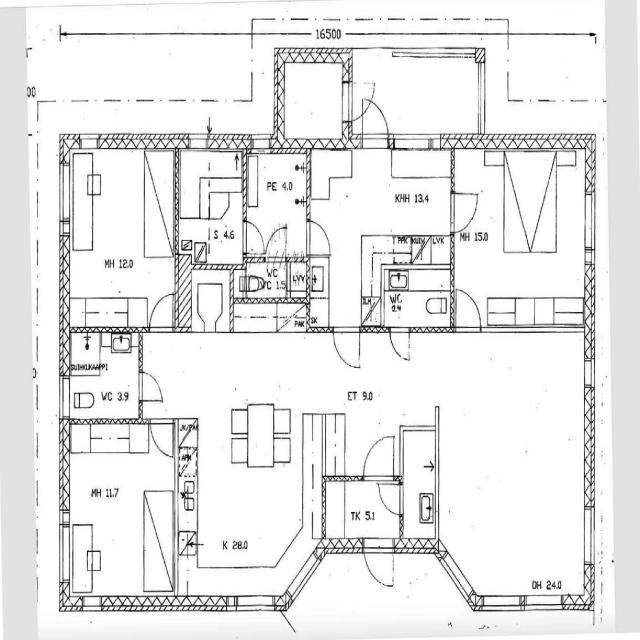door: (361, 538, 396, 594), (361, 432, 396, 486), (360, 97, 390, 148), (449, 188, 481, 235), (454, 284, 484, 334), (332, 324, 362, 371), (148, 418, 176, 460), (148, 291, 175, 334), (376, 478, 404, 518), (306, 216, 332, 258), (137, 368, 165, 407), (351, 81, 376, 121), (388, 326, 413, 365), (264, 223, 288, 260), (242, 218, 265, 256)
window: (447, 548, 475, 604), (55, 156, 75, 230), (581, 186, 600, 259), (56, 517, 74, 592), (580, 502, 598, 572), (477, 591, 524, 616), (522, 592, 564, 614), (581, 346, 599, 396), (57, 370, 72, 422), (392, 136, 433, 154), (341, 75, 353, 126), (81, 595, 107, 615), (33, 261, 42, 293)
zone: (438, 330, 589, 620), (176, 402, 311, 601), (452, 148, 591, 330), (63, 422, 177, 602), (63, 147, 174, 326), (308, 150, 454, 260), (176, 151, 246, 270), (62, 329, 143, 429), (243, 152, 307, 255), (278, 66, 347, 151), (382, 267, 454, 331), (400, 425, 436, 537), (187, 269, 230, 333), (234, 260, 306, 298), (246, 406, 275, 468)
